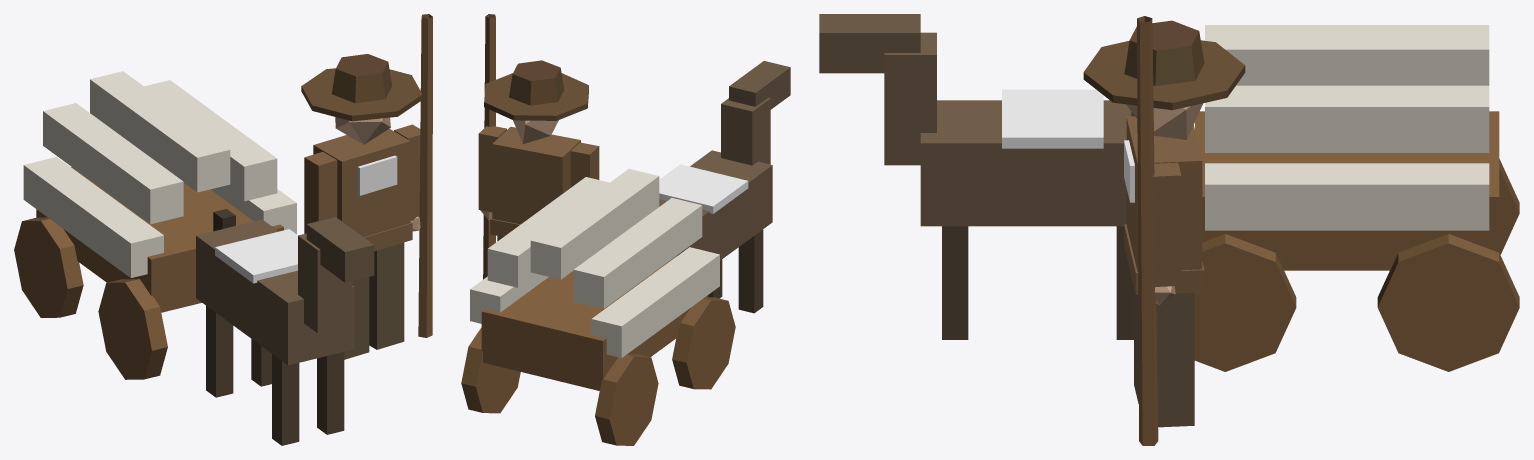
File: Settler.glb
3 renders of one model, left to right at view 1: azimuth 30°, elevation 25°; view 2: azimuth 150°, elevation 25°; view 3: azimuth 270°, elevation 25°, orthographic. The views are drawn at different scales.
Visible parts, largest first — view 1: Units_Settler; view 2: Units_Settler; view 3: Units_Settler.
Part boxes in pixels (box(x1,y1,x2,y2)): Units_Settler: box(14, 14, 432, 445); Units_Settler: box(461, 14, 790, 445); Units_Settler: box(819, 14, 1519, 445).
Size of the model in its own units: 0.2095 by 0.2301 by 0.345.
